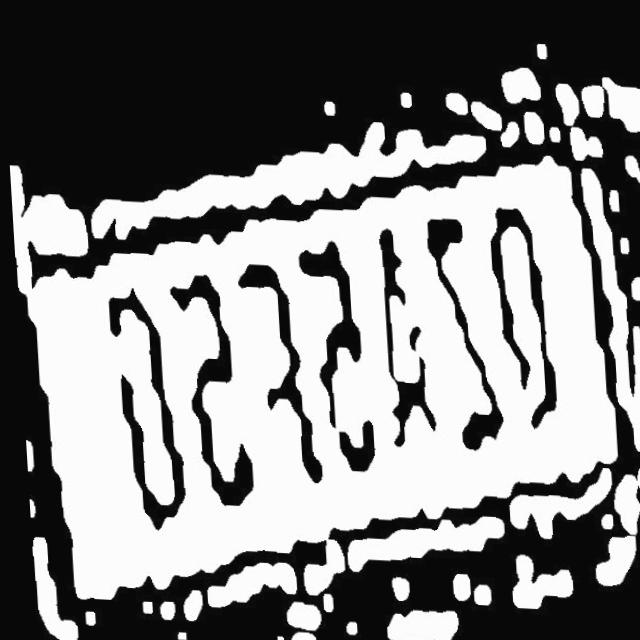0: (102, 284, 177, 532)
5: (169, 262, 248, 511), (298, 228, 373, 483)
a: (366, 215, 435, 457)
f: (240, 249, 311, 492)
q: (482, 196, 557, 441)
z: (421, 204, 498, 455)
